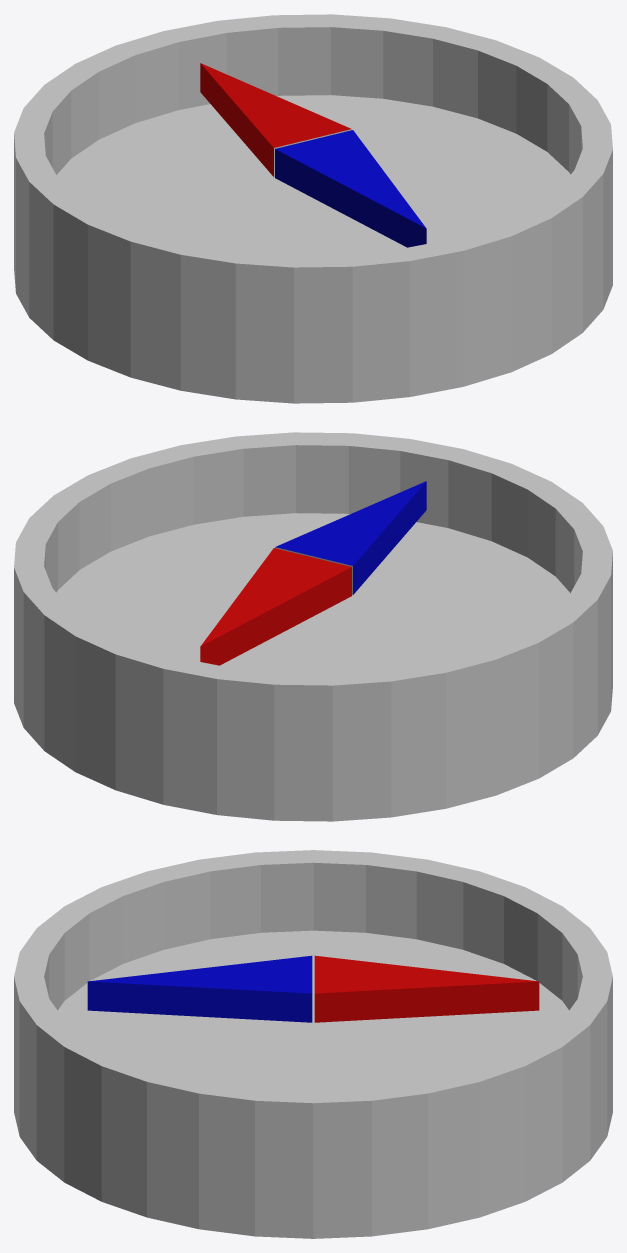
The model's file is compass.obj.
The picture shows the model from 3 angles, top to bottom: view 1: azimuth 30°, elevation 25°; view 2: azimuth 150°, elevation 25°; view 3: azimuth 270°, elevation 25°; orthographic projection.
Visible parts, largest first — view 1: Cylinder; view 2: Cylinder; view 3: Cylinder.
Part boxes in pixels (box(x1,y1,x2,y2)): Cylinder: box(14, 14, 612, 403); Cylinder: box(14, 432, 612, 821); Cylinder: box(14, 850, 612, 1238).
Size of the model in its own units: 8 by 2.03 by 8.
